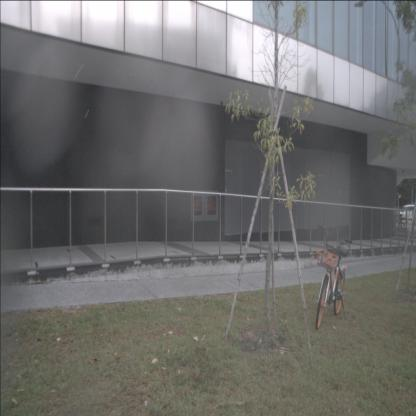vehicle-bicycle: (315, 224, 353, 331), (390, 212, 408, 230)
